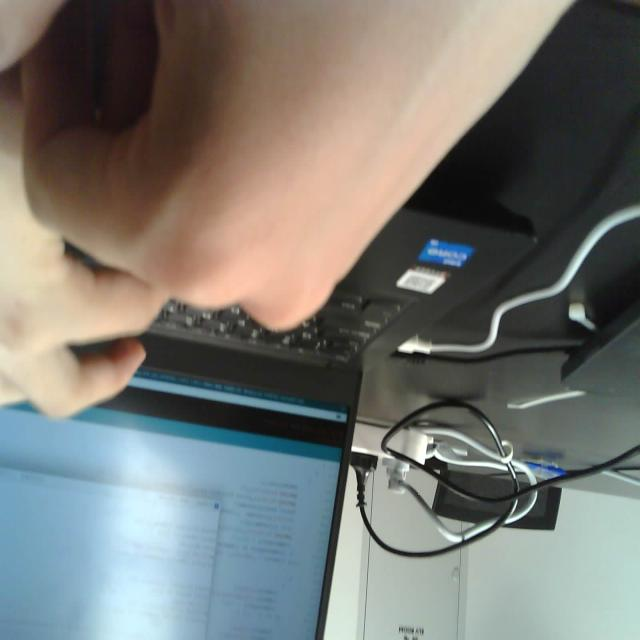keyboard-with-hands: (0, 88, 538, 372)
